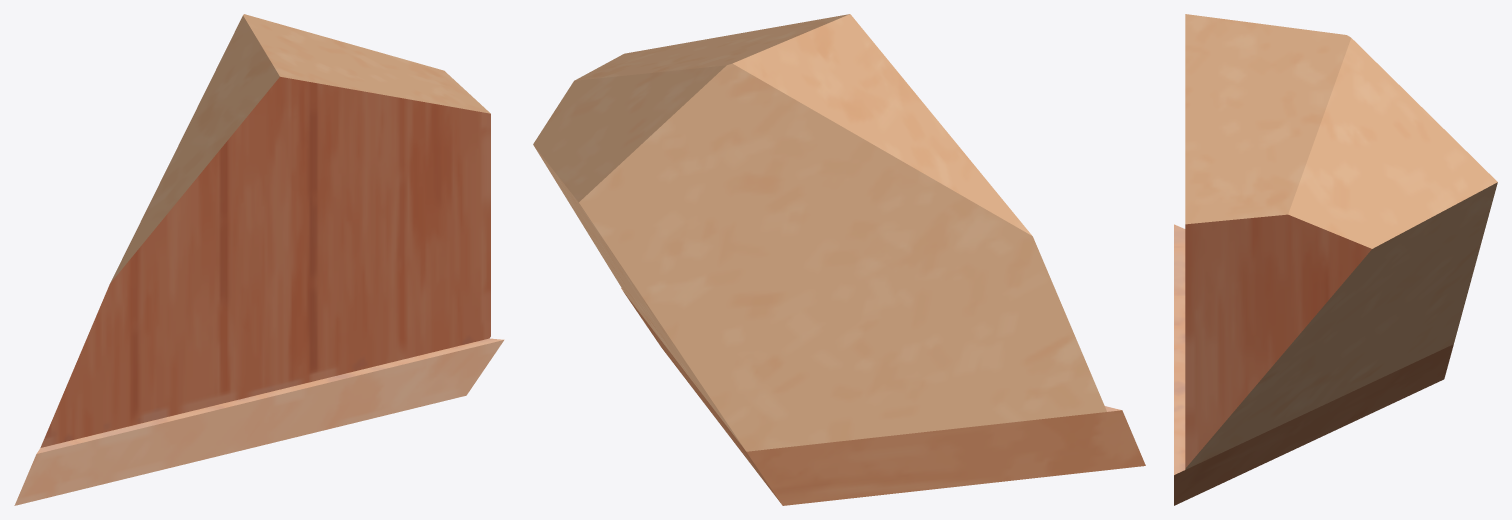
Rendered from counter_s05.fbx.
3 renders of one model, left to right at view 1: azimuth 30°, elevation 25°; view 2: azimuth 150°, elevation 25°; view 3: azimuth 270°, elevation 25°, orthographic. The views are drawn at different scales.
Visible parts, largest first — view 1: counter_s05; view 2: counter_s05; view 3: counter_s05.
Boxes of the visible parts, x1=… form: counter_s05: x1=14, y1=14, x2=504, y2=505; counter_s05: x1=533, y1=14, x2=1145, y2=505; counter_s05: x1=1174, y1=14, x2=1497, y2=505.
Size of the model in its own units: 2.75 by 1.93 by 1.43.
